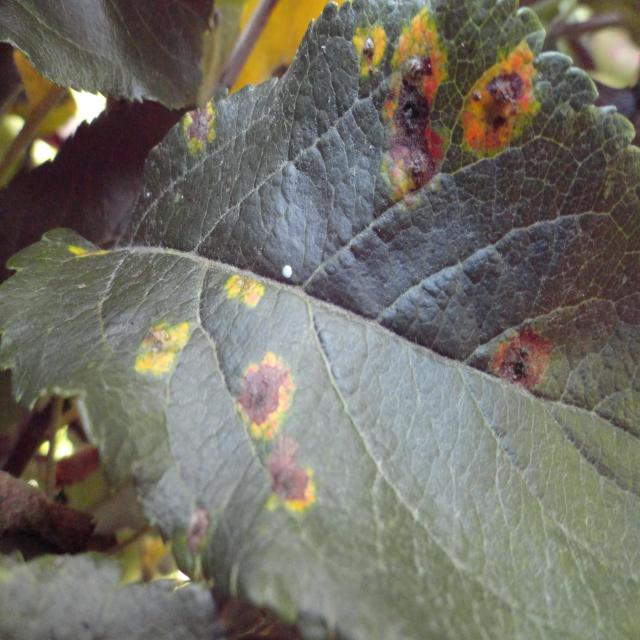Rust: (458, 29, 571, 189), (380, 5, 447, 217), (482, 317, 570, 417), (112, 305, 200, 396), (223, 348, 301, 443), (263, 434, 325, 538), (220, 235, 272, 348), (176, 96, 223, 170), (351, 12, 389, 83), (69, 233, 112, 276)
